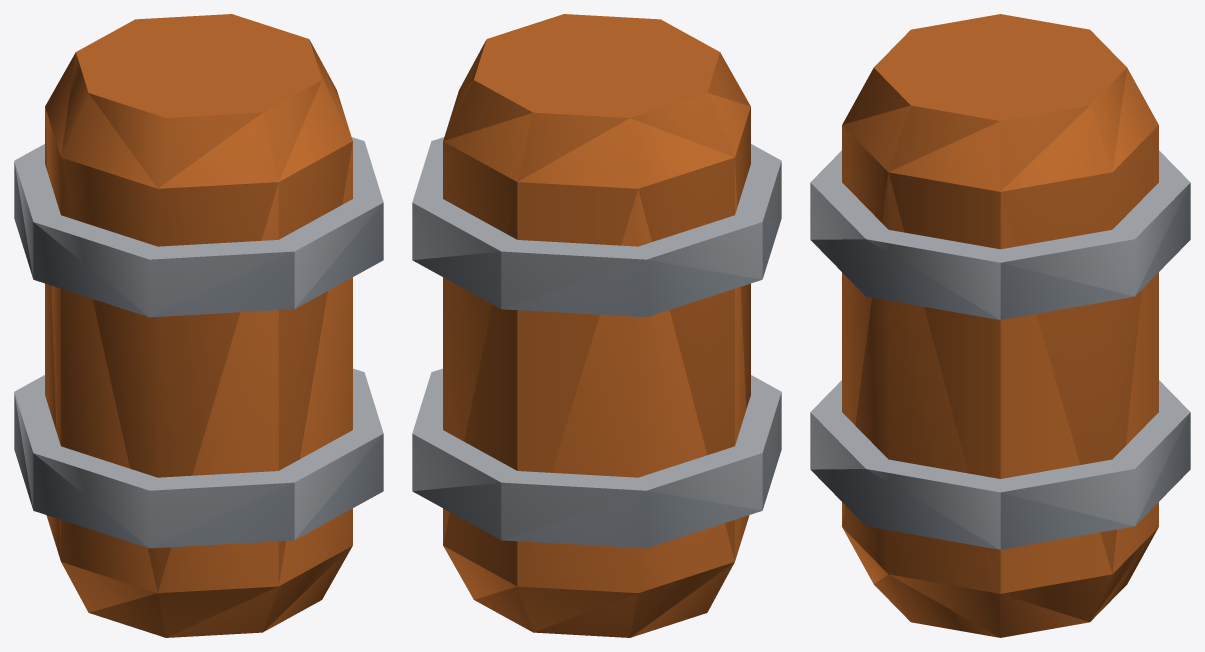
Rendered from Kit_container-tall.fbx.
The picture shows the model from 3 angles, left to right: view 1: azimuth 30°, elevation 25°; view 2: azimuth 150°, elevation 25°; view 3: azimuth 270°, elevation 25°; orthographic projection.
Visible parts, largest first — view 1: Kit_container-tall; view 2: Kit_container-tall; view 3: Kit_container-tall.
Boxes of the visible parts, box(x1,y1,x2,y2) form: Kit_container-tall: box(14, 14, 383, 637); Kit_container-tall: box(412, 14, 781, 637); Kit_container-tall: box(810, 14, 1190, 637).
Bounding box in the file's own units: 0.6 × 0.9 × 0.6.
